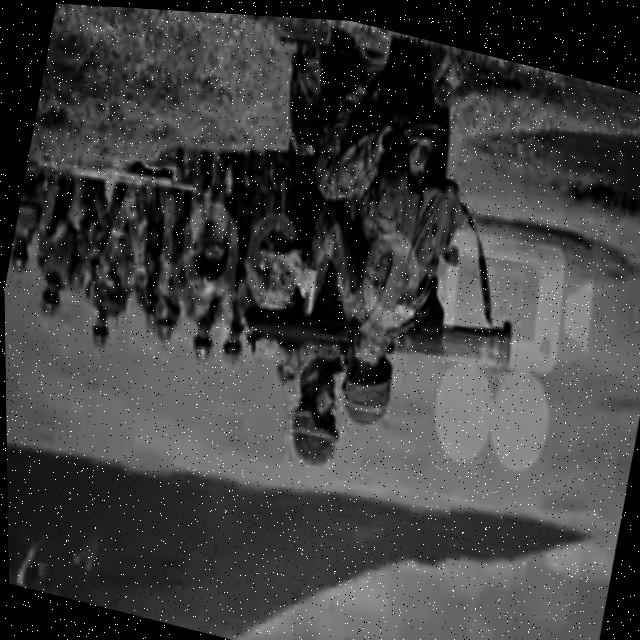rocket: (230, 253, 517, 400)
